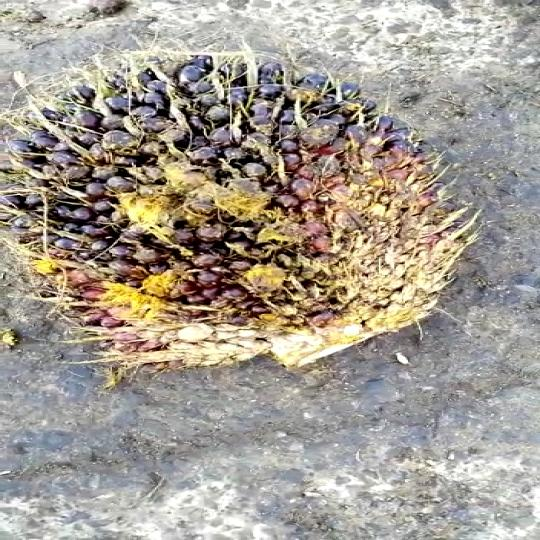mentah: (0, 42, 479, 368)
